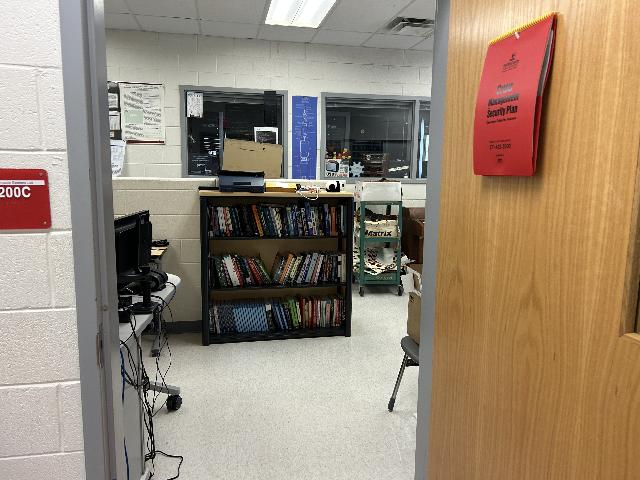panda_plushie: (326, 182, 344, 192)
